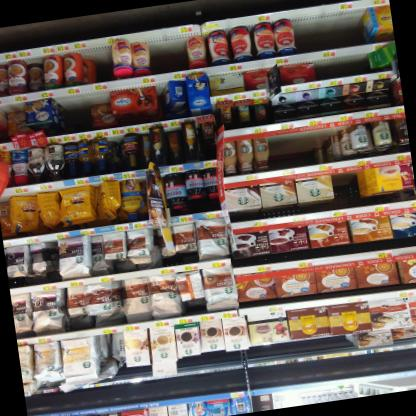empty_space: (328, 9, 370, 49), (55, 93, 94, 133), (290, 14, 330, 53), (146, 36, 187, 72), (269, 132, 304, 169), (330, 169, 360, 204), (310, 55, 350, 81), (90, 46, 115, 82), (300, 130, 326, 164), (349, 53, 371, 76)
